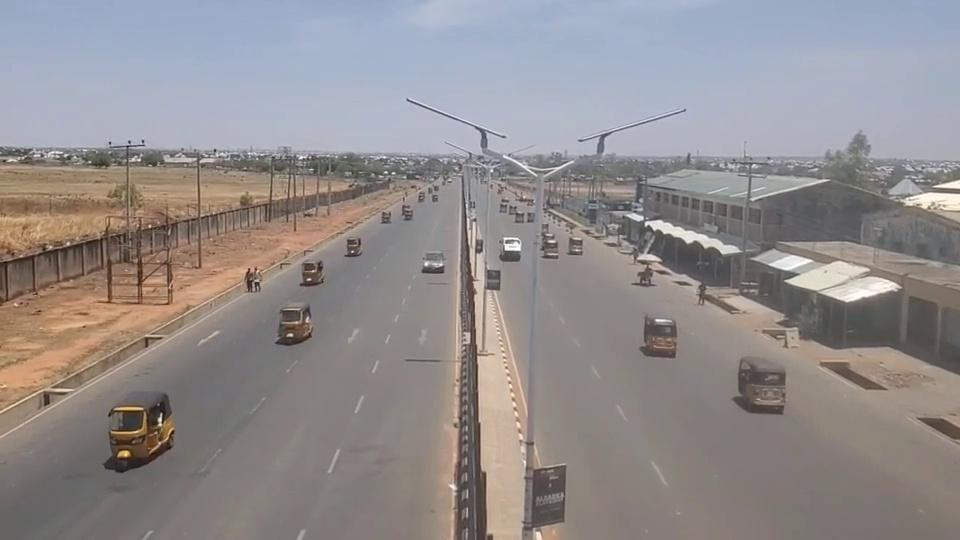keke: (107, 390, 175, 470), (737, 355, 786, 413), (642, 314, 677, 357)
